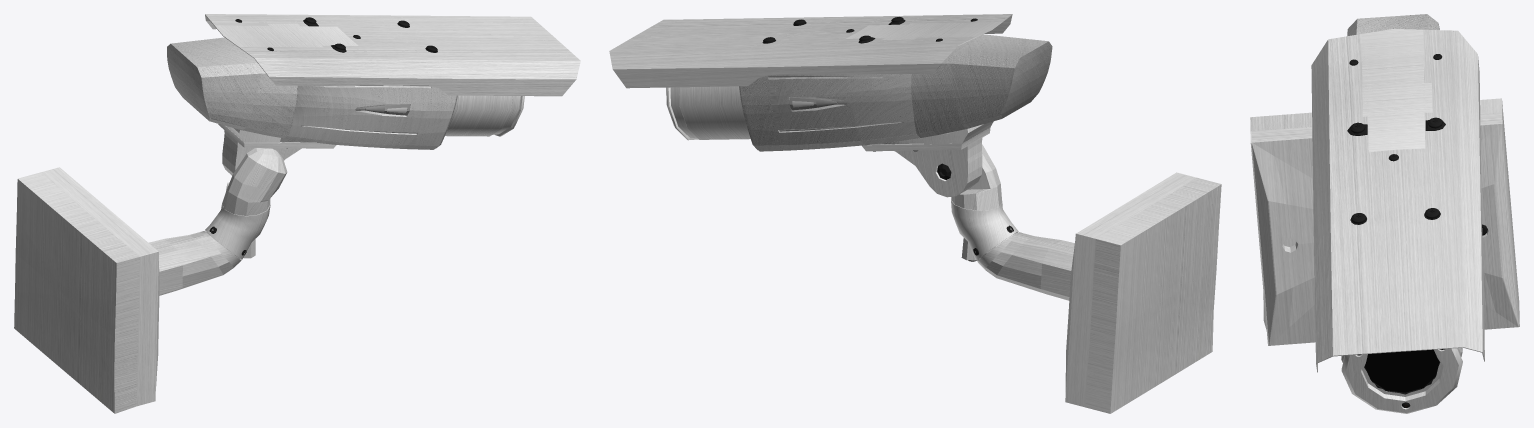
The model's file is camera.fbx.
3 views of the same model, side by side, from view 1: azimuth 30°, elevation 25°; view 2: azimuth 150°, elevation 25°; view 3: azimuth 270°, elevation 25° (orthographic). The views are drawn at different scales.
Visible parts, largest first — view 1: Obj3d66-593570-77-486, Obj3d66-593570-81-872, Obj3d66-593570-124-152, Obj3d66-593570-76-444, Obj3d66-593570-71-410, Obj3d66-593570-70-416, Obj3d66-593570-80-911, Obj3d66-593570-82-621, Obj3d66-593570-69-151, Obj3d66-593570-135-153; view 2: Obj3d66-593570-77-486, Obj3d66-593570-124-152, Obj3d66-593570-81-872, Obj3d66-593570-76-444, Obj3d66-593570-71-410, Obj3d66-593570-80-911, Obj3d66-593570-135-153, Obj3d66-593570-69-151, Obj3d66-593570-82-621, Obj3d66-593570-70-416, Obj3d66-593570-136-277; view 3: Obj3d66-593570-81-872, Obj3d66-593570-76-444, Obj3d66-593570-82-621, Obj3d66-593570-80-911, Obj3d66-593570-96-721, Obj3d66-593570-77-486, Obj3d66-593570-124-152.
Boxes of the visible parts, x1,y1,x2,y2 form: Obj3d66-593570-77-486: [14, 172, 139, 413]; Obj3d66-593570-81-872: [205, 14, 580, 96]; Obj3d66-593570-124-152: [167, 37, 457, 149]; Obj3d66-593570-76-444: [41, 167, 159, 406]; Obj3d66-593570-71-410: [148, 231, 241, 295]; Obj3d66-593570-70-416: [222, 148, 287, 215]; Obj3d66-593570-80-911: [445, 95, 524, 136]; Obj3d66-593570-82-621: [214, 23, 358, 47]; Obj3d66-593570-69-151: [205, 204, 270, 259]; Obj3d66-593570-135-153: [218, 124, 336, 175]; Obj3d66-593570-77-486: [1085, 177, 1221, 413]; Obj3d66-593570-124-152: [739, 34, 1052, 151]; Obj3d66-593570-81-872: [609, 14, 1012, 88]; Obj3d66-593570-76-444: [1065, 172, 1196, 407]; Obj3d66-593570-71-410: [977, 232, 1074, 300]; Obj3d66-593570-80-911: [666, 86, 750, 140]; Obj3d66-593570-135-153: [862, 127, 990, 197]; Obj3d66-593570-69-151: [951, 200, 1018, 260]; Obj3d66-593570-82-621: [846, 22, 1001, 40]; Obj3d66-593570-70-416: [951, 144, 1002, 210]; Obj3d66-593570-136-277: [923, 121, 993, 144]; Obj3d66-593570-81-872: [1311, 29, 1484, 372]; Obj3d66-593570-76-444: [1250, 112, 1519, 345]; Obj3d66-593570-82-621: [1361, 29, 1432, 152]; Obj3d66-593570-80-911: [1341, 348, 1462, 413]; Obj3d66-593570-96-721: [1364, 349, 1440, 394]; Obj3d66-593570-77-486: [1250, 98, 1519, 329]; Obj3d66-593570-124-152: [1347, 14, 1439, 36].
Size of the model in its own units: 65.47 by 38.22 by 23.69.
9 materials, 2 textured.
